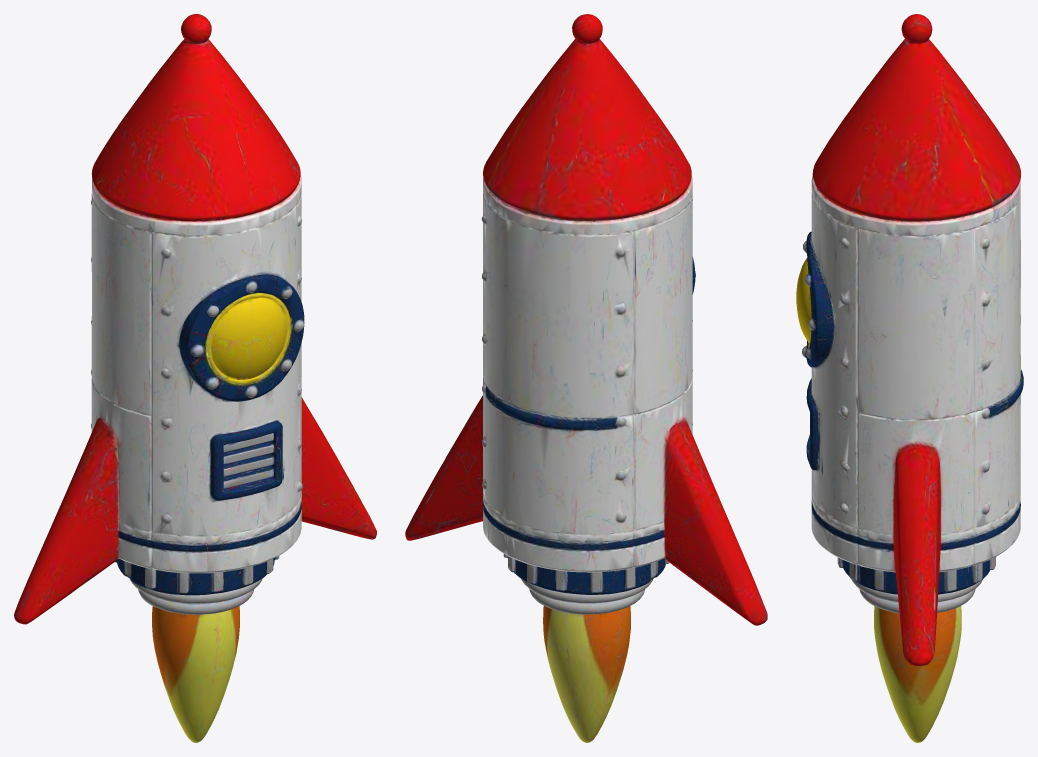
The picture shows the model from 3 angles, left to right: view 1: azimuth 30°, elevation 25°; view 2: azimuth 150°, elevation 25°; view 3: azimuth 270°, elevation 25°; orthographic projection.
Size of the model in its own units: 0.9853 by 1.9 by 0.5394.
Materials: 1 (1 with a texture image).
